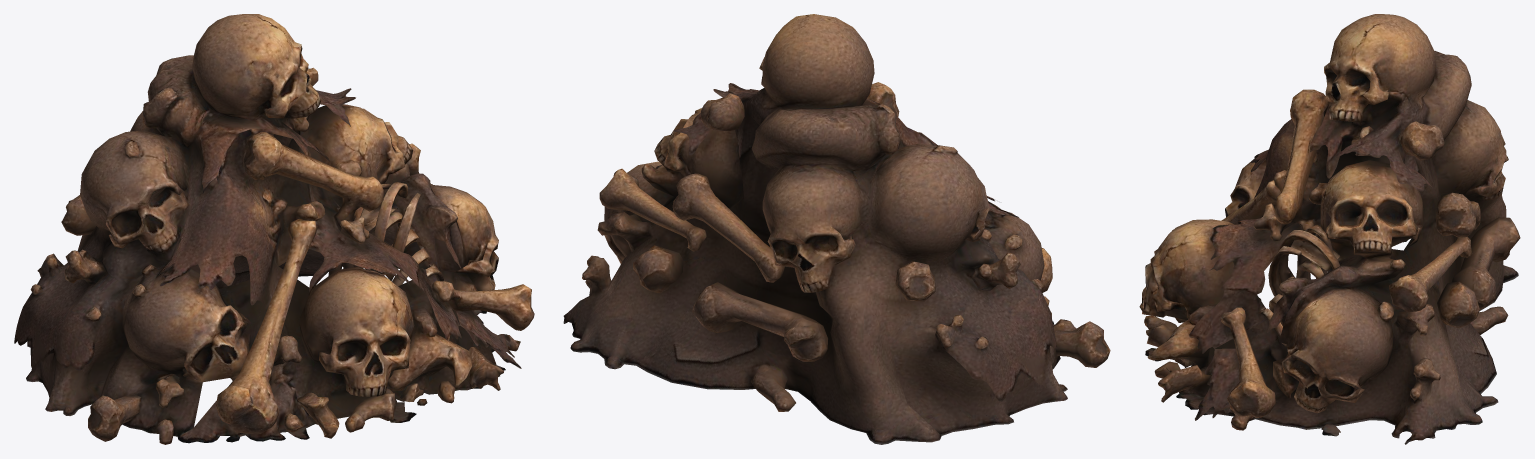
Rendered from prop_bones.glb.
3 views of the same model, side by side, from view 1: azimuth 30°, elevation 25°; view 2: azimuth 150°, elevation 25°; view 3: azimuth 270°, elevation 25° (orthographic). The views are drawn at different scales.
Visible parts, largest first — view 1: tripo_node_ec0514bf-224f-42e9-8d37-161858a3cfa5; view 2: tripo_node_ec0514bf-224f-42e9-8d37-161858a3cfa5; view 3: tripo_node_ec0514bf-224f-42e9-8d37-161858a3cfa5.
Part boxes in pixels (x1,y1,x2,y2): tripo_node_ec0514bf-224f-42e9-8d37-161858a3cfa5: (14, 14, 534, 444); tripo_node_ec0514bf-224f-42e9-8d37-161858a3cfa5: (563, 14, 1110, 444); tripo_node_ec0514bf-224f-42e9-8d37-161858a3cfa5: (1139, 14, 1520, 444).
Bounding box in the file's own units: 0.9995 × 0.7056 × 0.7603.
Materials: 1 (1 with a texture image).
